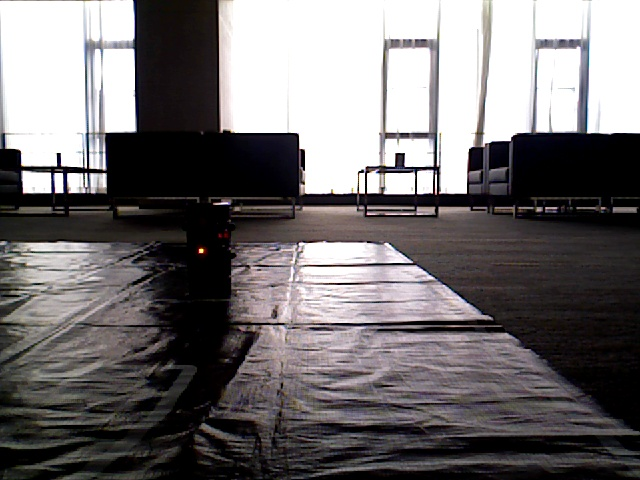yellow: (188, 207, 215, 283)
